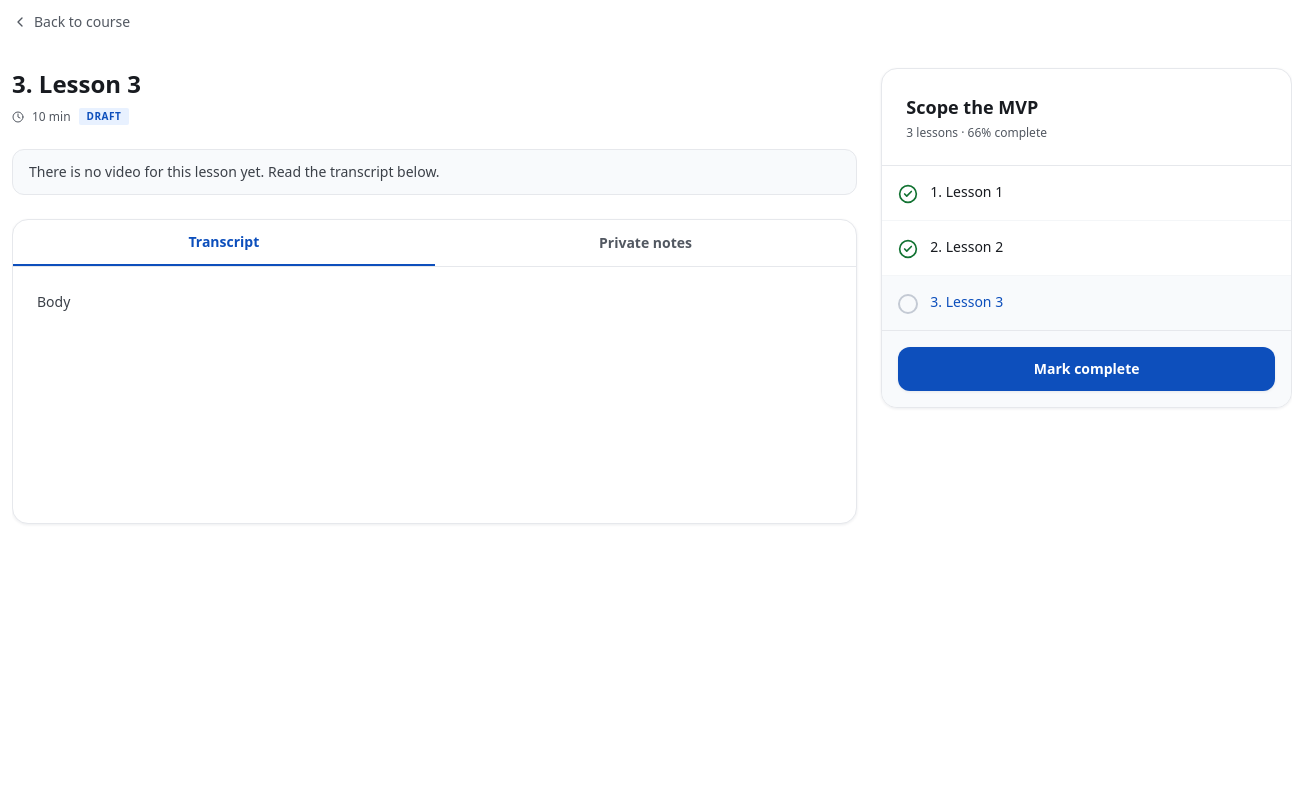
Test: lesson page: name before the certificate › asks for a name before completing the last lesson when the profile has none
Click the button "Mark complete".
click(1087, 369)  # box [898,347,1275,391]
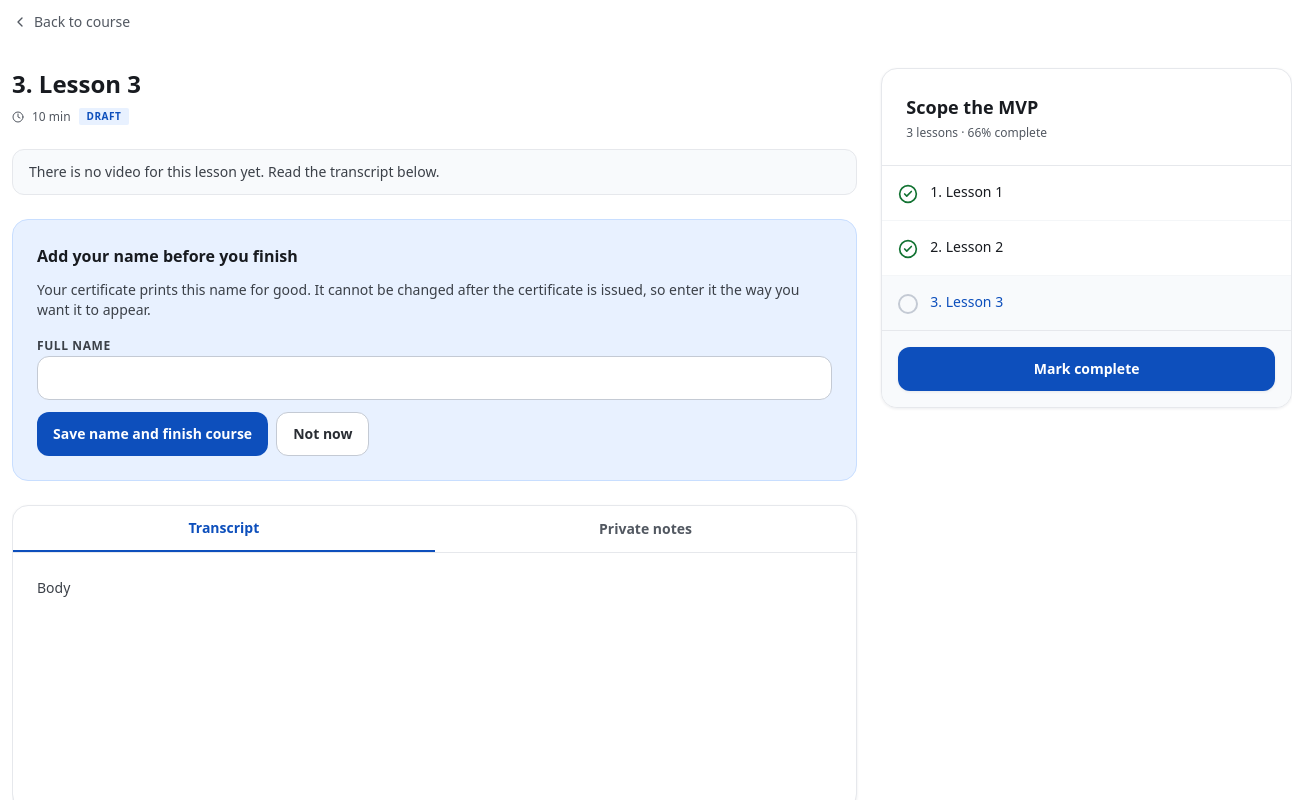
Expected: the heading "Add your name before you finish" is shown, [37,245,298,267]
Type "Rewalk Teammate" into the field labelled "Full name".
click(435, 378); type("Rewalk Teammate")  # box [37,356,832,400]
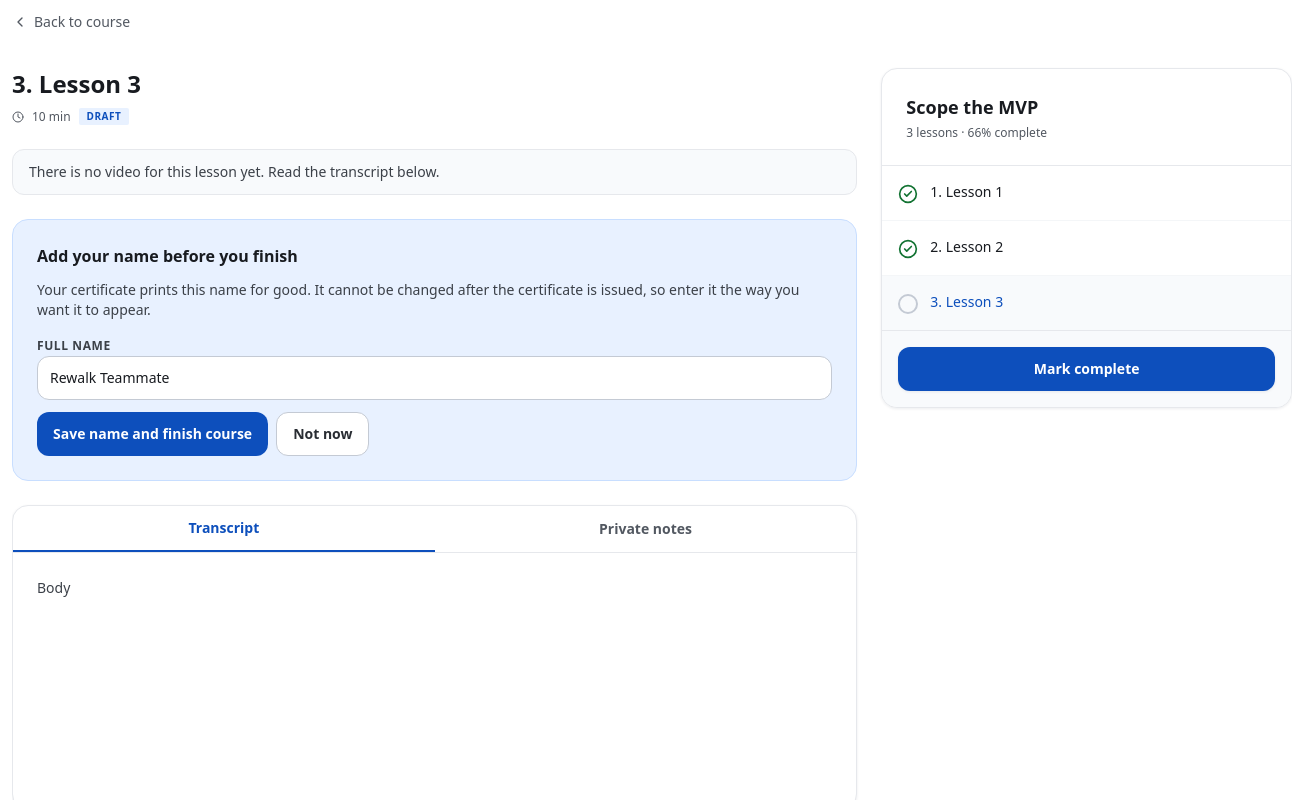
Click the button "Save name and finish course".
click(153, 434)  # box [37,412,268,456]
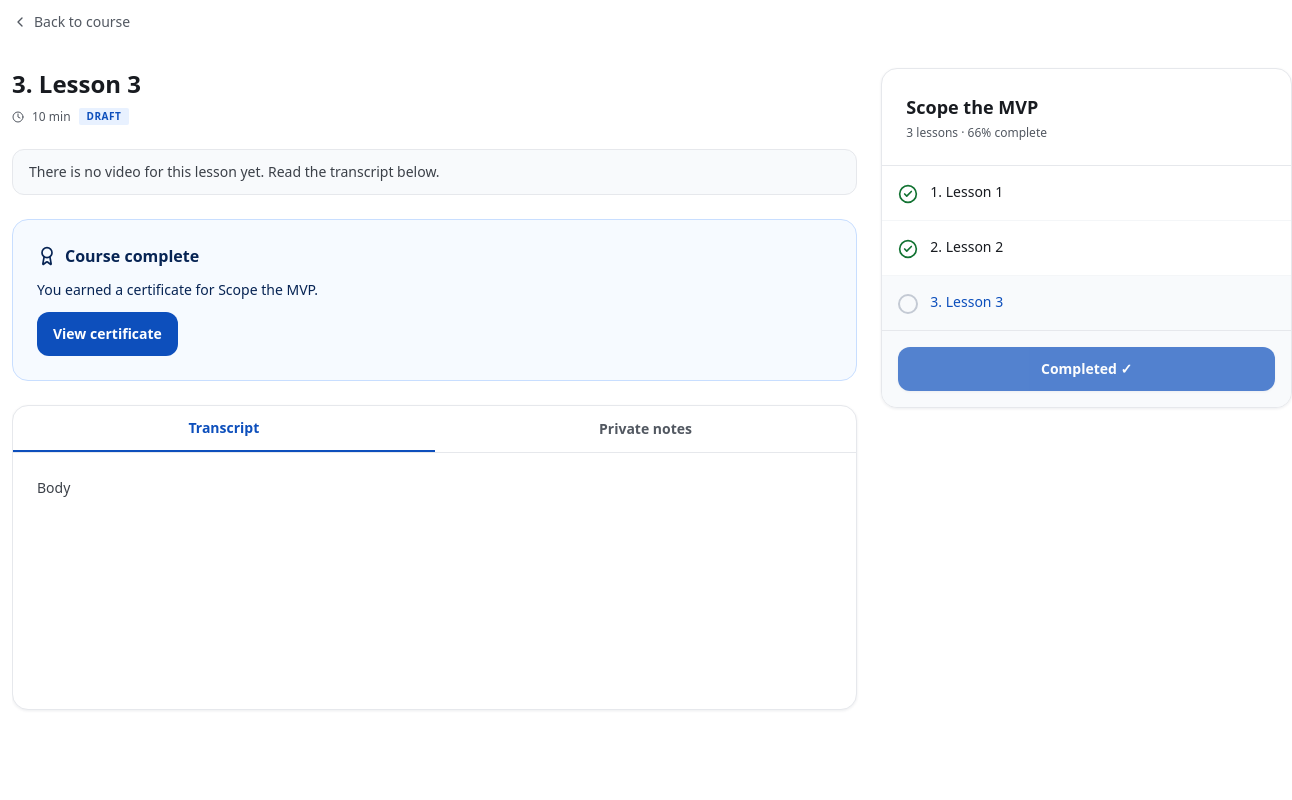
Expected: the text "Course complete" is shown, [37,245,199,267]
